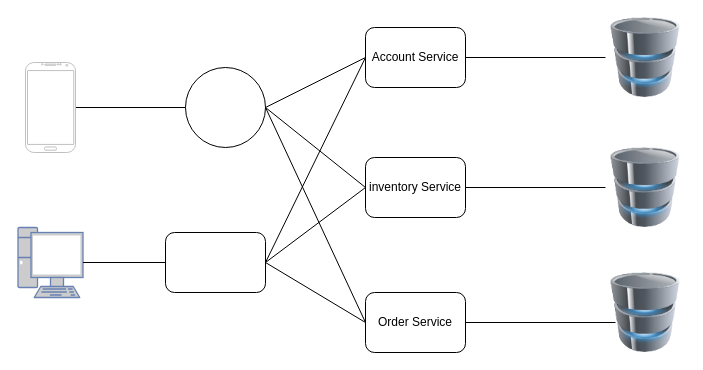
Some shapes in this 703 by 370 pixel diagram are drawn without their labels. The centre of each missing label's shape, as x and y in pixels:
API GATEWAY: the point at 225,107
Storefront WebAPP: the point at 215,262
